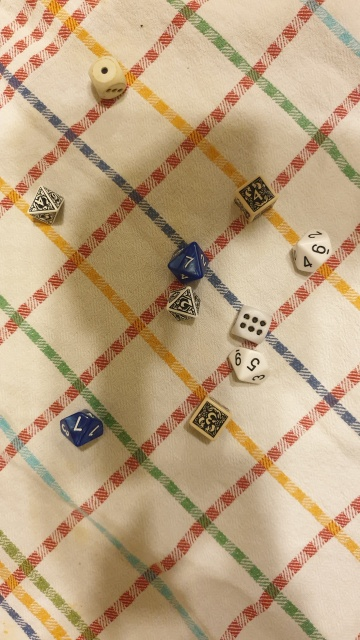d10-5: (225, 343, 269, 392)
d10-6: (286, 225, 336, 283)
d10-7: (54, 403, 108, 455), (165, 236, 208, 287)
d6-1: (83, 52, 133, 104)
d6-6: (227, 302, 273, 346)
d6p-3: (185, 394, 232, 448)
d6p-4: (230, 169, 281, 225)
d8p-2: (160, 281, 206, 328)
d8p-4: (22, 184, 65, 230)
